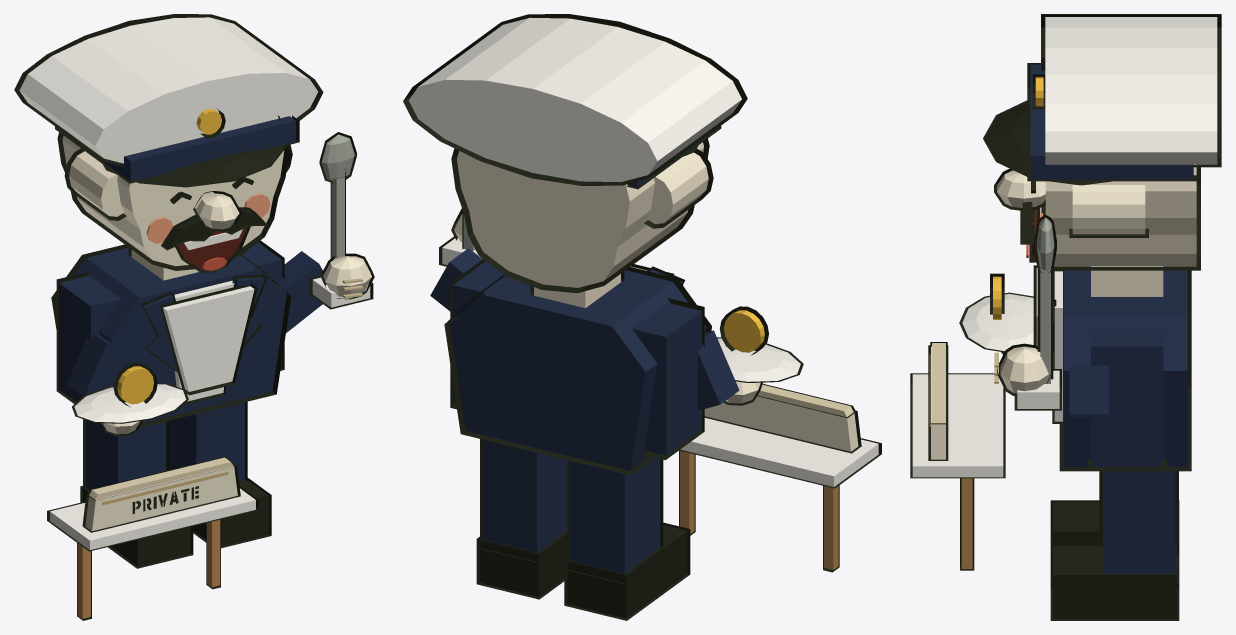
3 renders of one model, left to right at view 1: azimuth 30°, elevation 25°; view 2: azimuth 150°, elevation 25°; view 3: azimuth 270°, elevation 25°, orthographic. The views are drawn at different scales.
Parts seen in each view (by area): view 1: Link Marine; view 2: Link Marine; view 3: Link Marine.
Boxes of the visible parts, x1,y1,x2,y2 form: Link Marine: [14, 14, 374, 620]; Link Marine: [403, 14, 881, 620]; Link Marine: [910, 14, 1221, 620].
Bounding box in the file's own units: 0.722 × 0.9858 × 0.5155.
